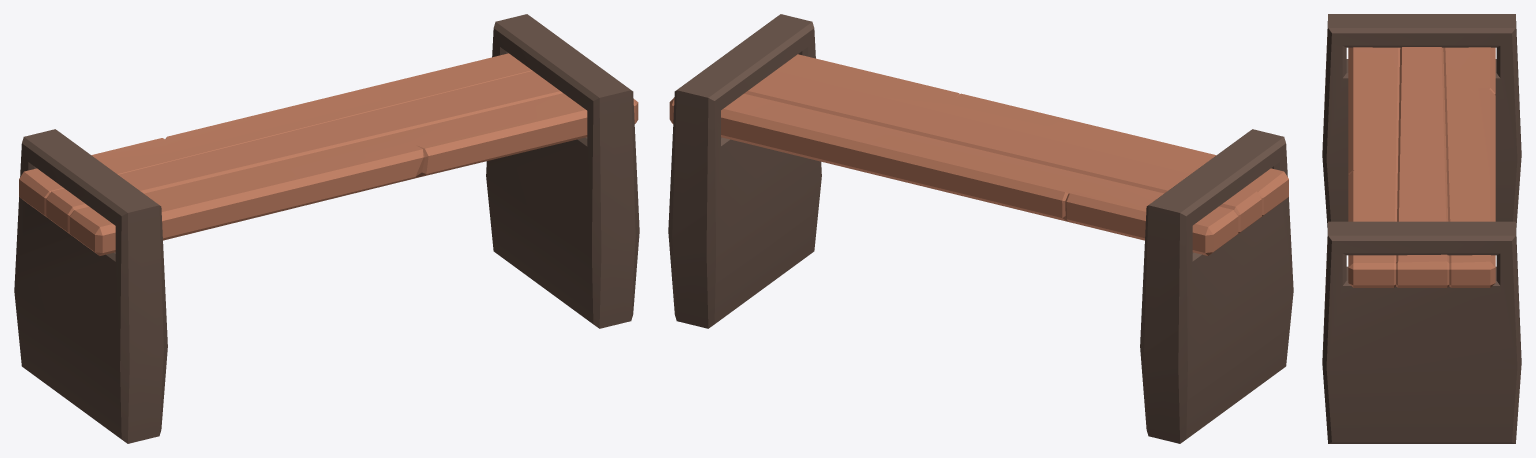
Rendered from bench_c001.glb.
3 views of the same model, side by side, from view 1: azimuth 30°, elevation 25°; view 2: azimuth 150°, elevation 25°; view 3: azimuth 270°, elevation 25° (orthographic). The views are drawn at different scales.
Parts seen in each view (by area): view 1: bench_c001; view 2: bench_c001; view 3: bench_c001.
Part boxes in pixels (x1,y1,x2,y2): bench_c001: [14, 14, 639, 443]; bench_c001: [668, 14, 1293, 443]; bench_c001: [1322, 14, 1521, 443].
Size of the model in its own units: 1.34 by 0.5449 by 0.4716.
Materials: 1 (1 with a texture image).
